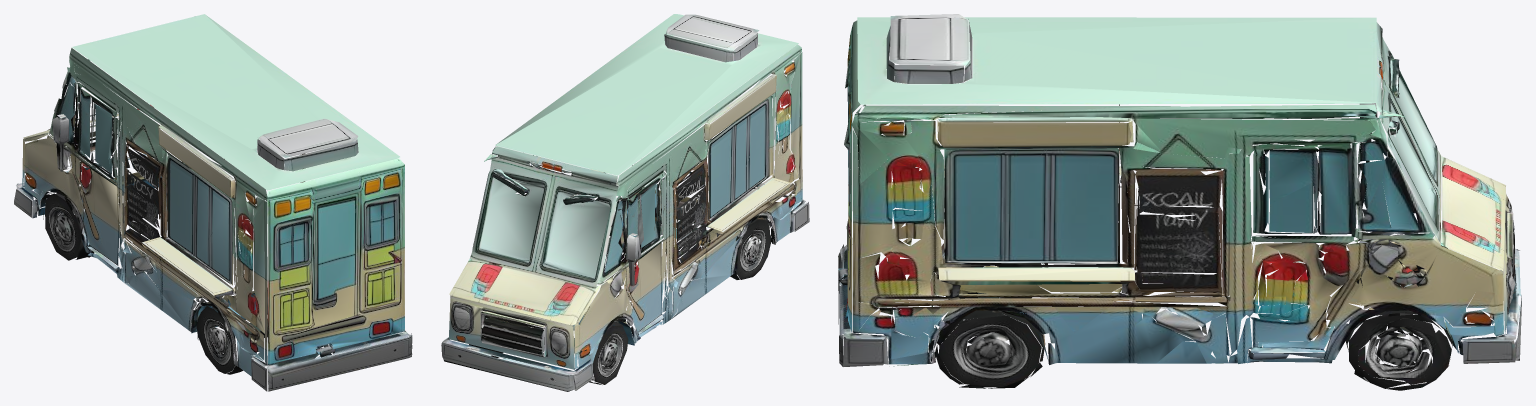
The picture shows the model from 3 angles, left to right: view 1: azimuth 30°, elevation 25°; view 2: azimuth 150°, elevation 25°; view 3: azimuth 270°, elevation 25°; orthographic projection. The views are drawn at different scales.
Parts seen in each view (by area): view 1: Visual; view 2: Visual; view 3: Visual.
Boxes of the visible parts, x1=… form: Visual: x1=14, y1=14, x2=412, y2=391; Visual: x1=441, y1=14, x2=809, y2=391; Visual: x1=838, y1=14, x2=1521, y2=390.
Bounding box in the file's own units: 2.54 × 3.2 × 6.38.
Materials: 1 (1 with a texture image).
